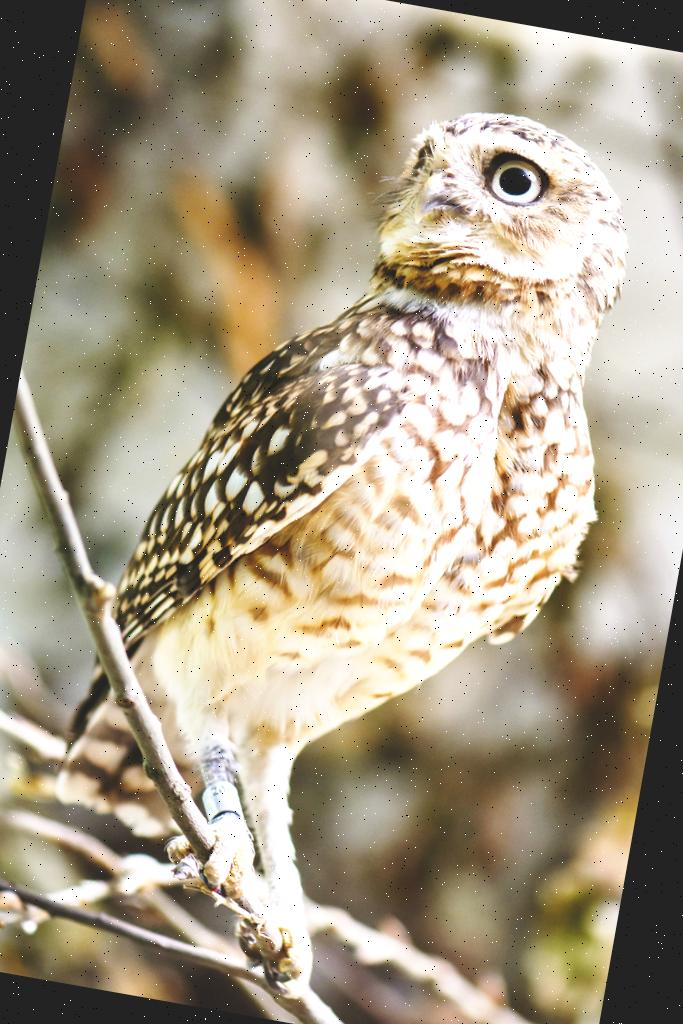Owl: (16, 53, 661, 1024)
